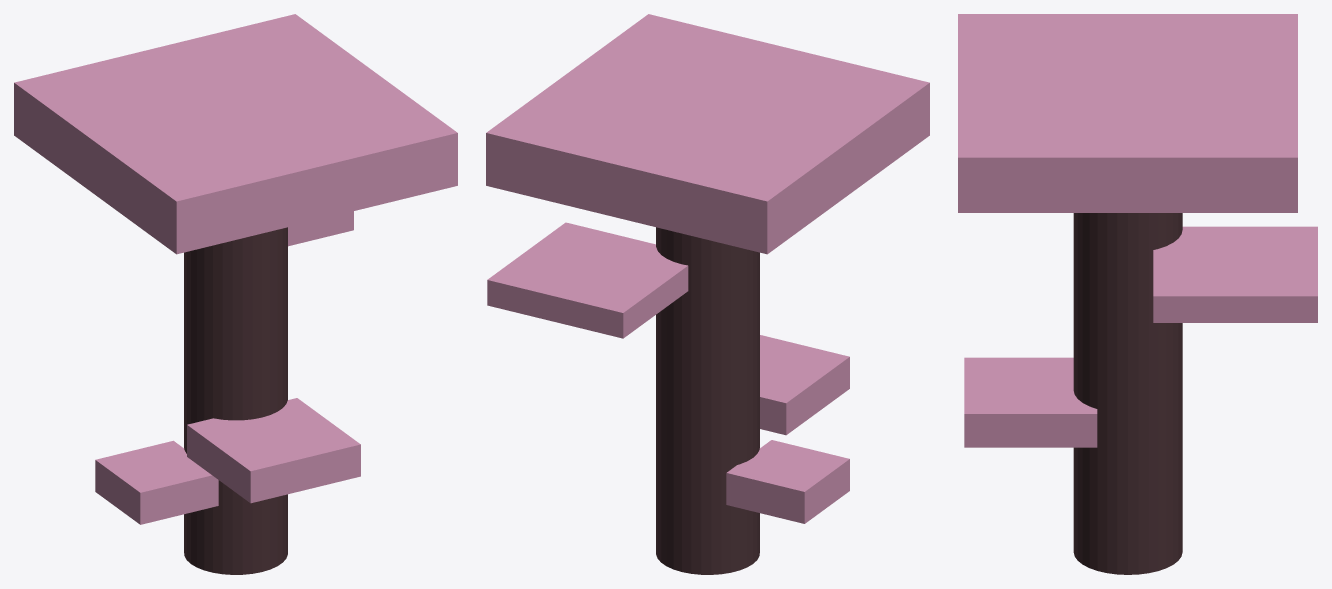
The model's file is SM_EN_MushroomTree_01.fbx.
3 views of the same model, side by side, from view 1: azimuth 30°, elevation 25°; view 2: azimuth 150°, elevation 25°; view 3: azimuth 270°, elevation 25° (orthographic). The views are drawn at different scales.
Visible parts, largest first — view 1: SM_EN_MushroomTree_01; view 2: SM_EN_MushroomTree_01; view 3: SM_EN_MushroomTree_01.
Part boxes in pixels (left/top/right/bottom): SM_EN_MushroomTree_01: left=14, top=14, right=457, bottom=574; SM_EN_MushroomTree_01: left=486, top=14, right=929, bottom=574; SM_EN_MushroomTree_01: left=958, top=14, right=1317, bottom=574.
Bounding box in the file's own units: 211 × 223 × 319.
